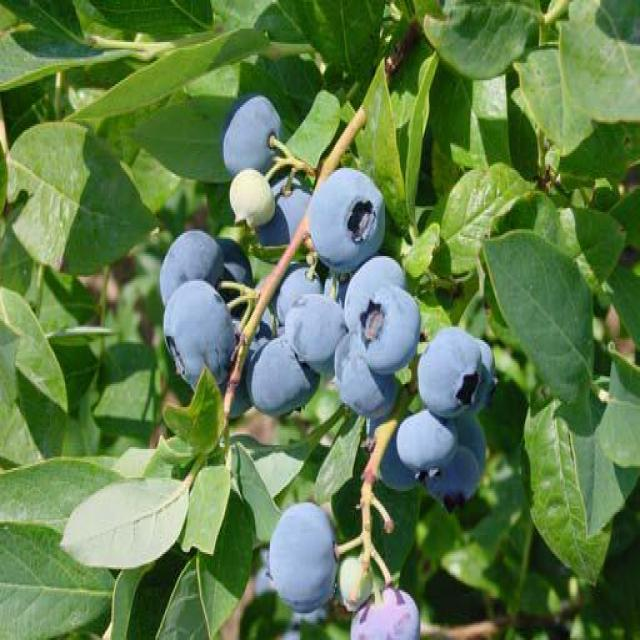BlueBerry - v1: (156, 275, 242, 407), (303, 164, 392, 283), (263, 491, 345, 617), (238, 334, 332, 420), (216, 84, 290, 182), (331, 321, 401, 424), (281, 285, 354, 380), (410, 319, 480, 418), (356, 281, 422, 378), (390, 398, 466, 478), (152, 222, 222, 308), (340, 581, 430, 640), (344, 250, 406, 325), (266, 254, 325, 325), (212, 228, 262, 310), (262, 170, 316, 245), (425, 447, 484, 514), (461, 331, 504, 416), (226, 164, 278, 233), (440, 412, 489, 478), (335, 544, 377, 614)
